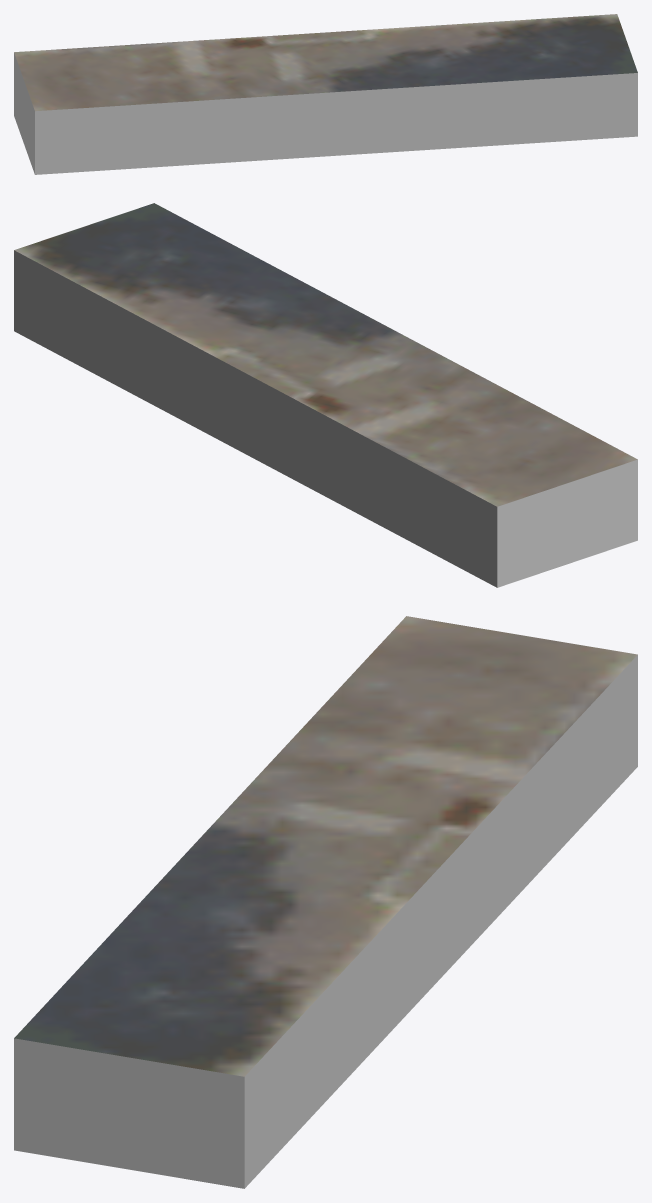
The model's file is DEBW_001000qHyx7.gltf.
3 renders of one model, top to bottom at view 1: azimuth 30°, elevation 25°; view 2: azimuth 150°, elevation 25°; view 3: azimuth 270°, elevation 25°, orthographic. The views are drawn at different scales.
Parts seen in each view (by area): view 1: Z_UP; view 2: Z_UP; view 3: Z_UP.
Boxes of the visible parts, x1,y1,x2,y2 form: Z_UP: (14, 14, 637, 174); Z_UP: (14, 203, 637, 587); Z_UP: (14, 616, 637, 1188).
Size of the model in its own units: 22.03 by 2.5 by 12.61.
Materials: 2 (1 with a texture image).
